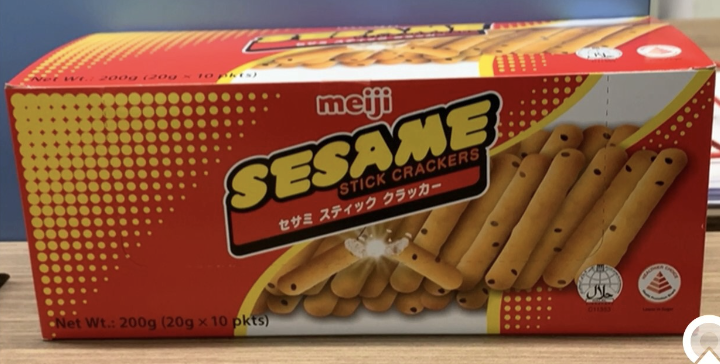crackers_150g: (42, 65, 690, 327)
